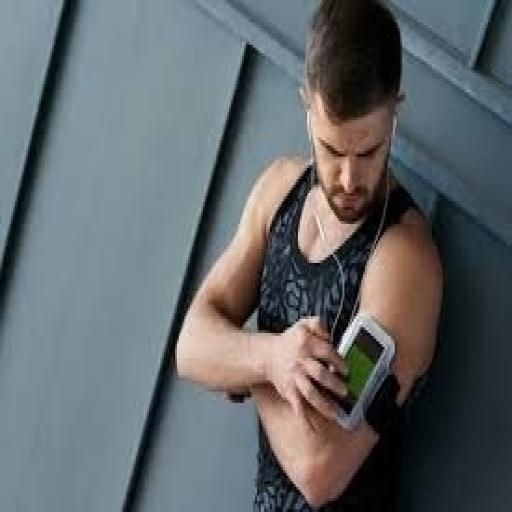listening_to_music: (171, 0, 449, 509)
